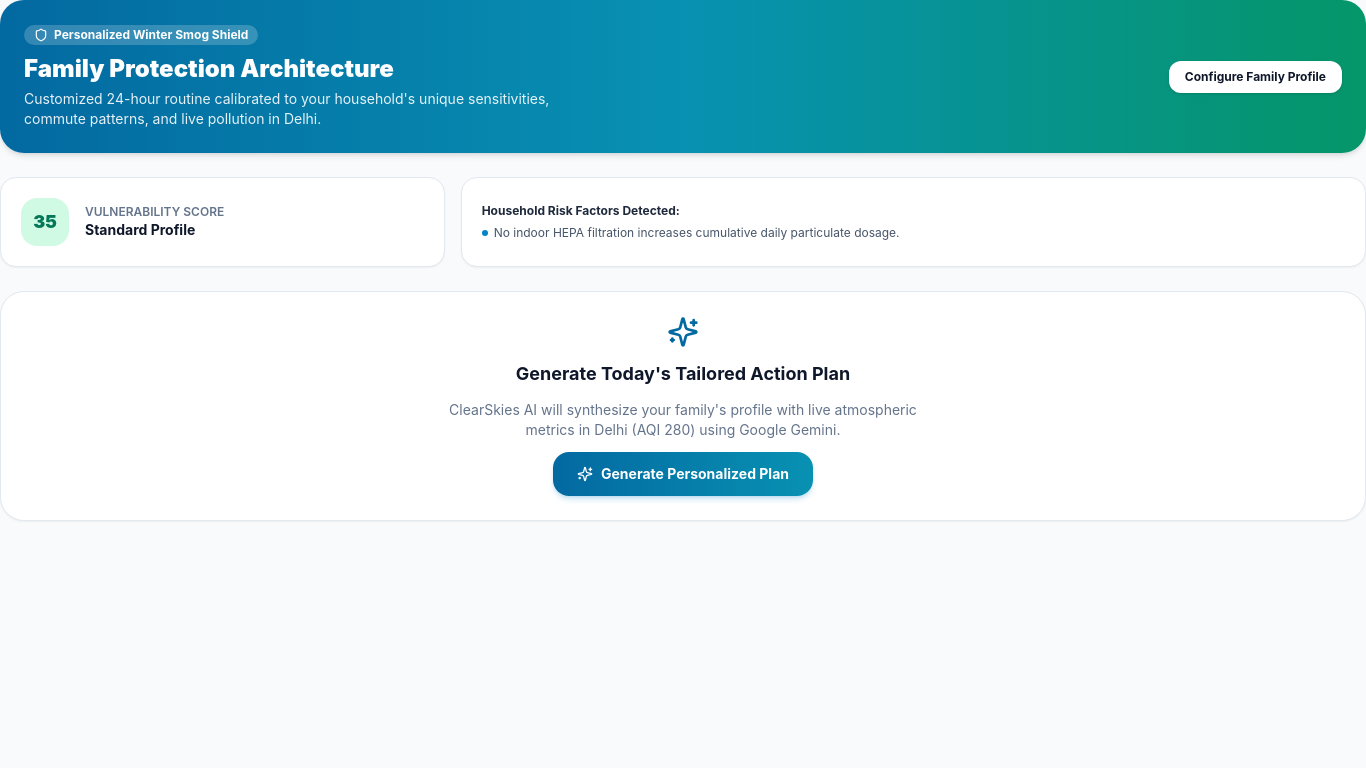
Test: FamilyPlanView › reports failed plan generation
Step 1. Click the button "Generate Personalized Plan" → (683, 474), box 553,452 -> 813,496
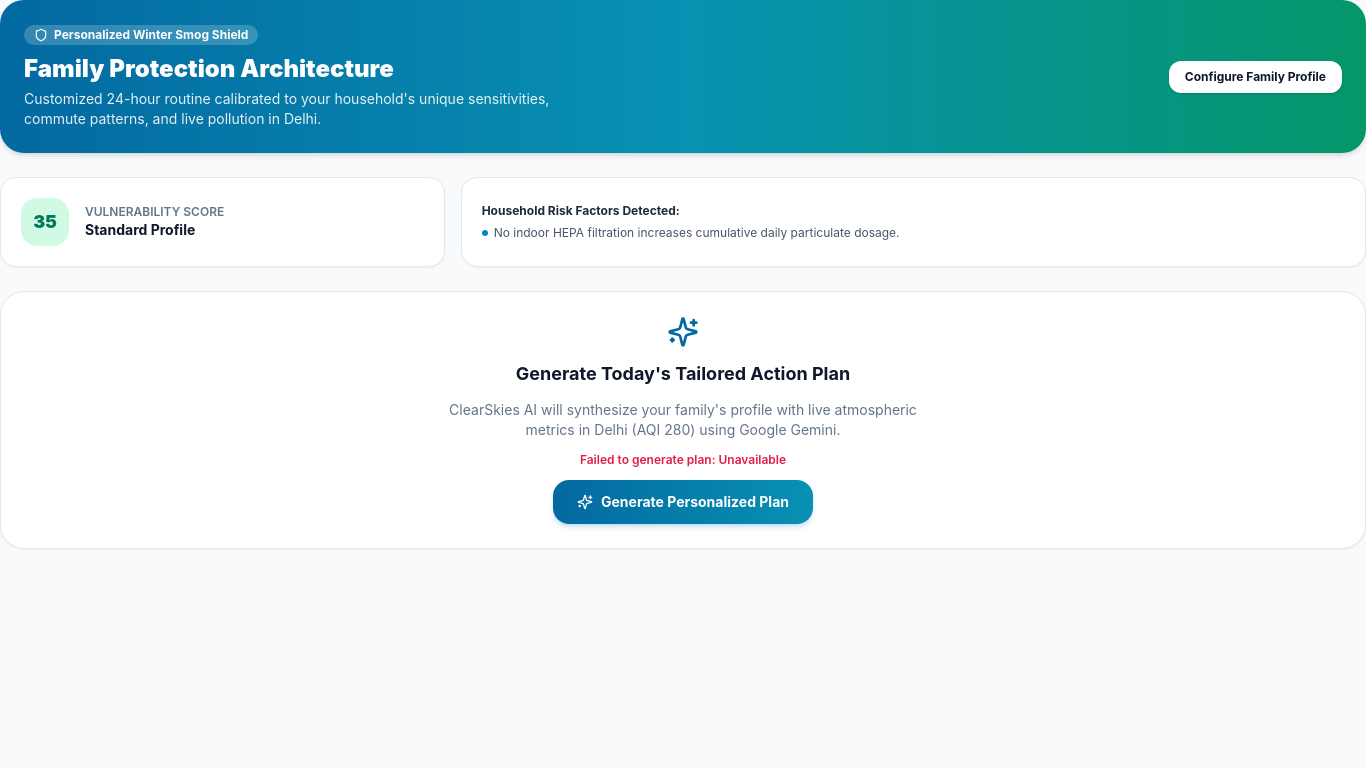
Check: the message reads "Failed to generate plan: Unavailable", box 580,452 -> 786,467
